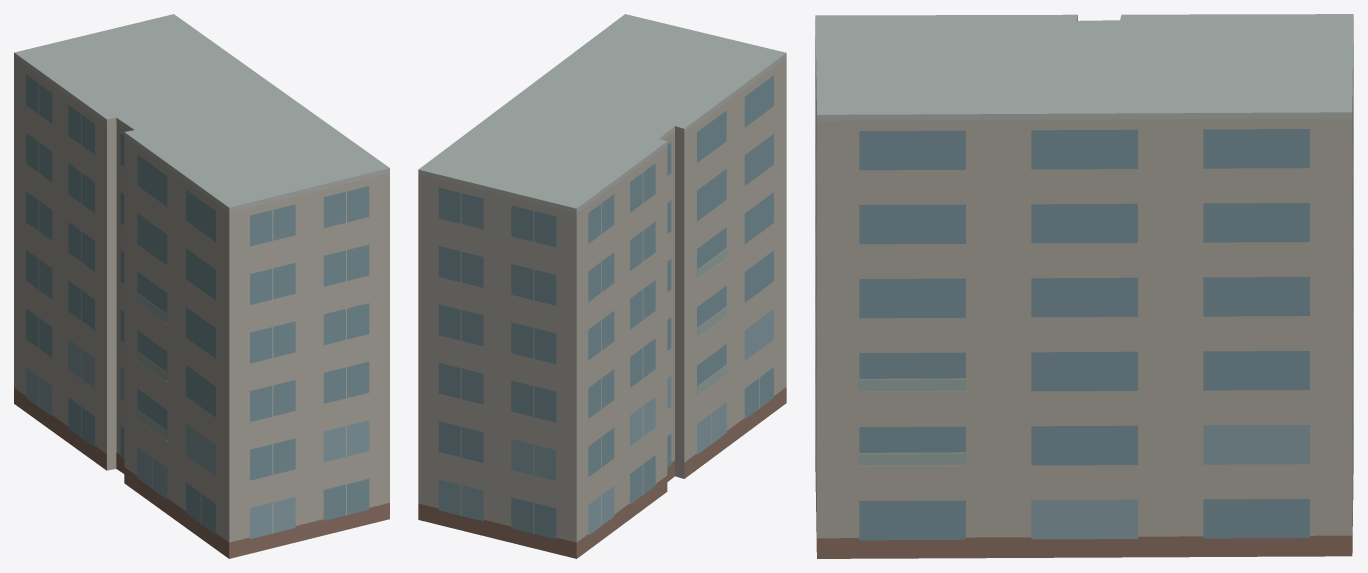
The model's file is survey-upis-32926032.glb.
3 views of the same model, side by side, from view 1: azimuth 30°, elevation 25°; view 2: azimuth 150°, elevation 25°; view 3: azimuth 270°, elevation 25° (orthographic). The views are drawn at different scales.
Parts seen in each view (by area): view 1: survey-upis-32926032.tmp; view 2: survey-upis-32926032.tmp; view 3: survey-upis-32926032.tmp.
Boxes of the visible parts, x1,y1,x2,y2 form: survey-upis-32926032.tmp: [14, 14, 389, 558]; survey-upis-32926032.tmp: [418, 14, 786, 558]; survey-upis-32926032.tmp: [815, 14, 1353, 558].
Size of the model in its own units: 8.83 by 18.05 by 19.84.
